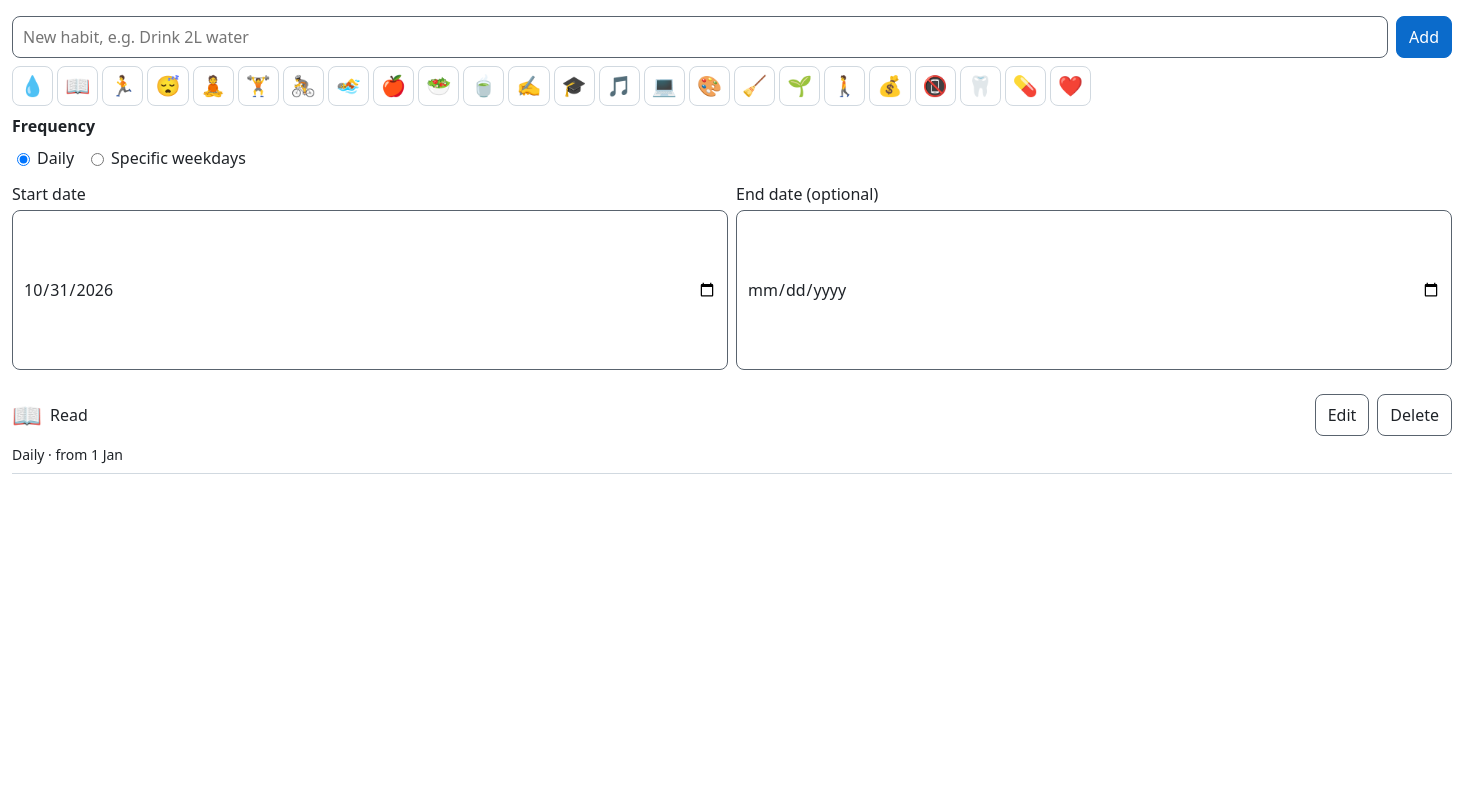
Test: HabitList › AC8 (#1): Escape or clicking away cancels the edit, name and icon restored
Click the button with aria-label "Edit Read" at (1342, 415), box [1315,394,1369,436]
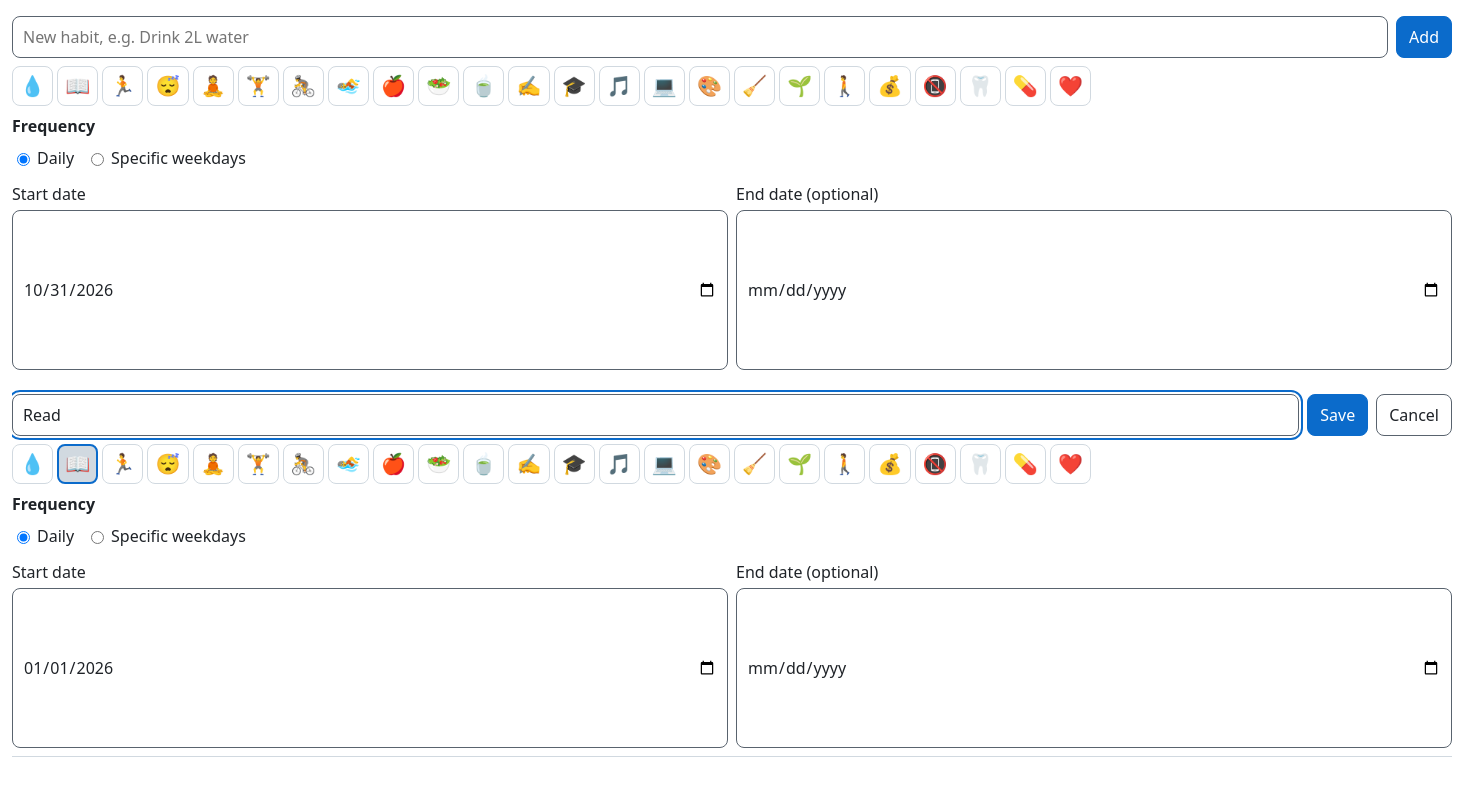
Type "ing" into the field named "Name for Read" at (656, 415), box [12,394,1299,436]
Then press Escape
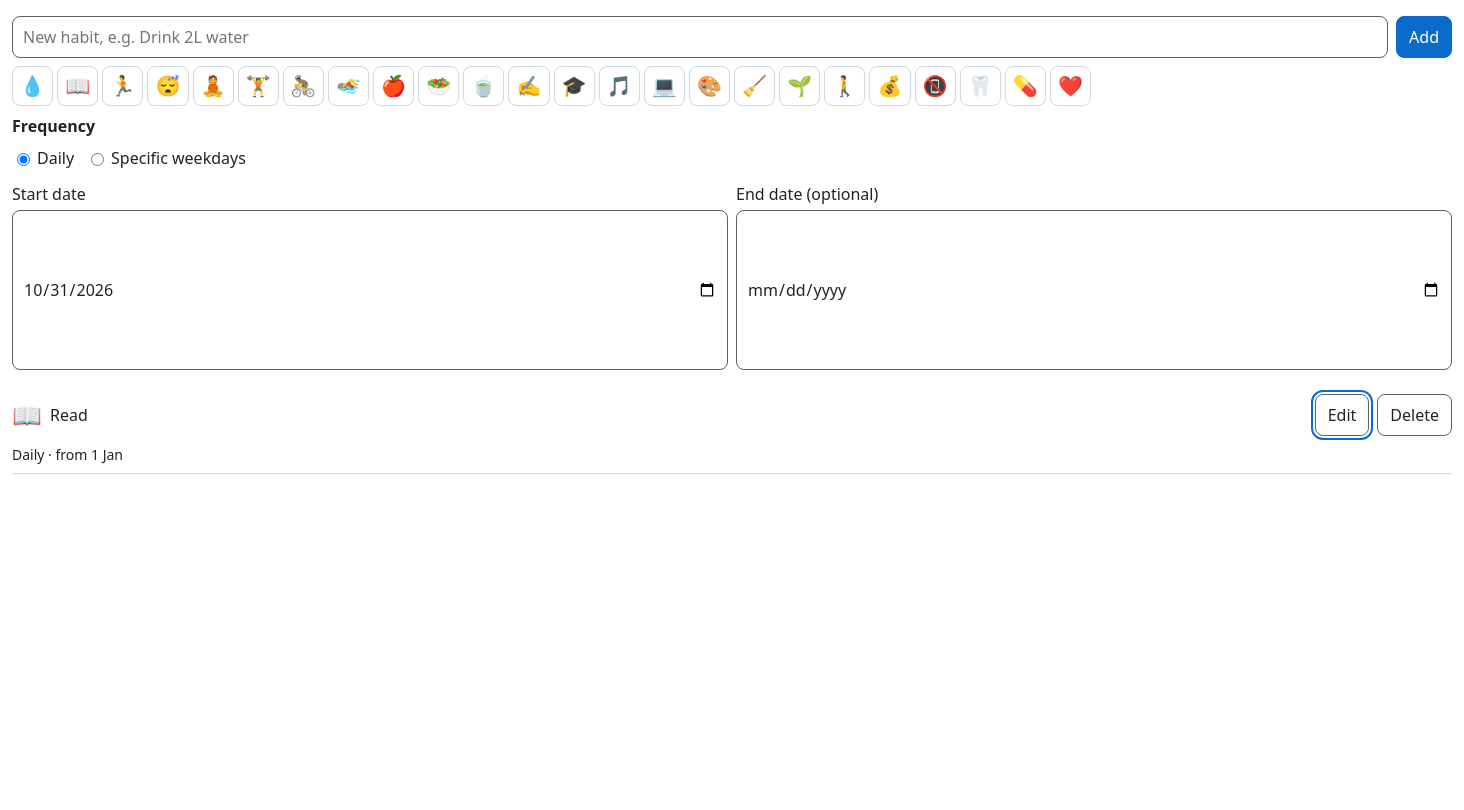
Check: the list item "Read" shows "📖", box [12,398,42,431]
Click the button with aria-label "Edit Read" at (1342, 415), box [1315,394,1369,436]
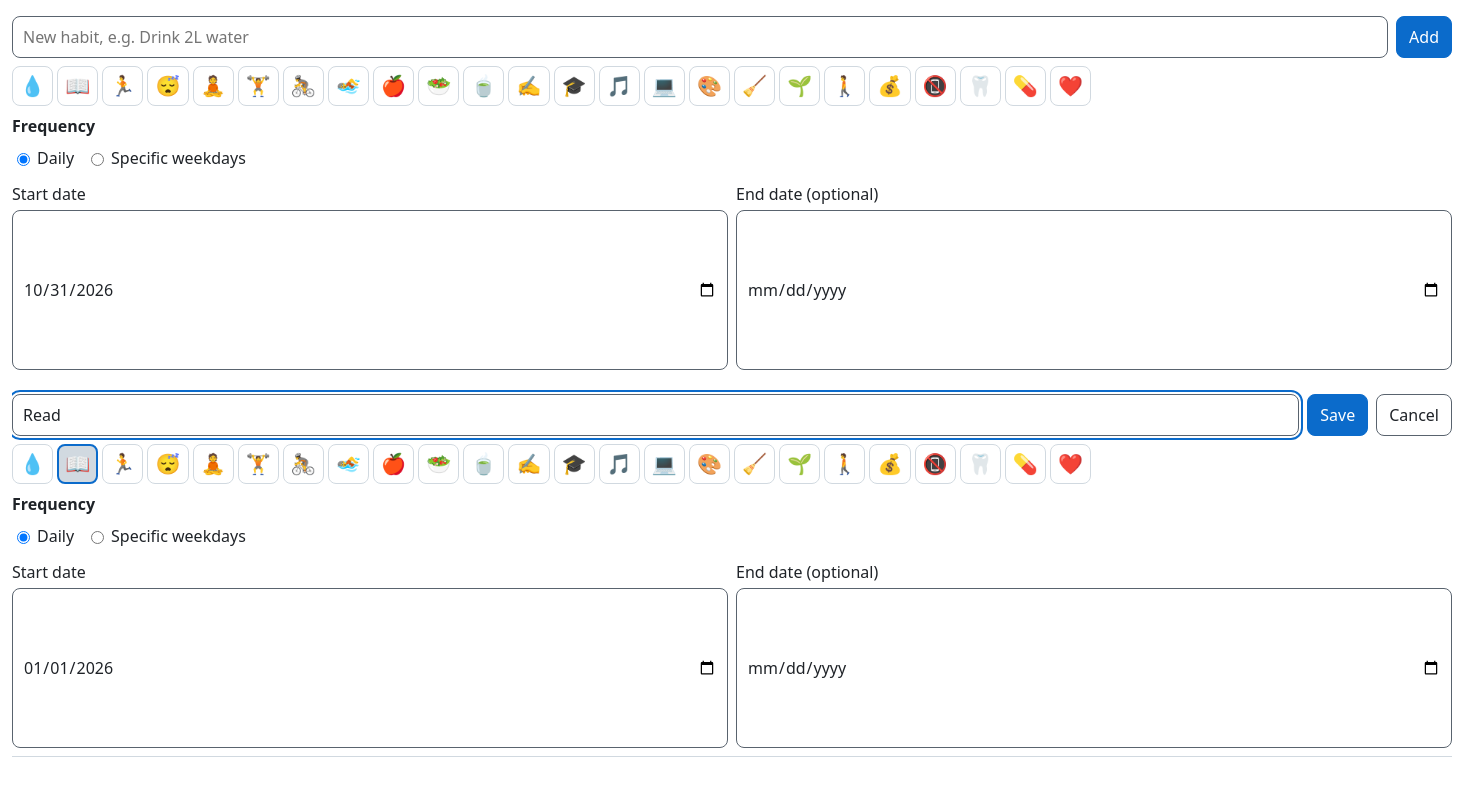
Type "ing" into the field named "Name for Read" at (656, 415), box [12,394,1299,436]
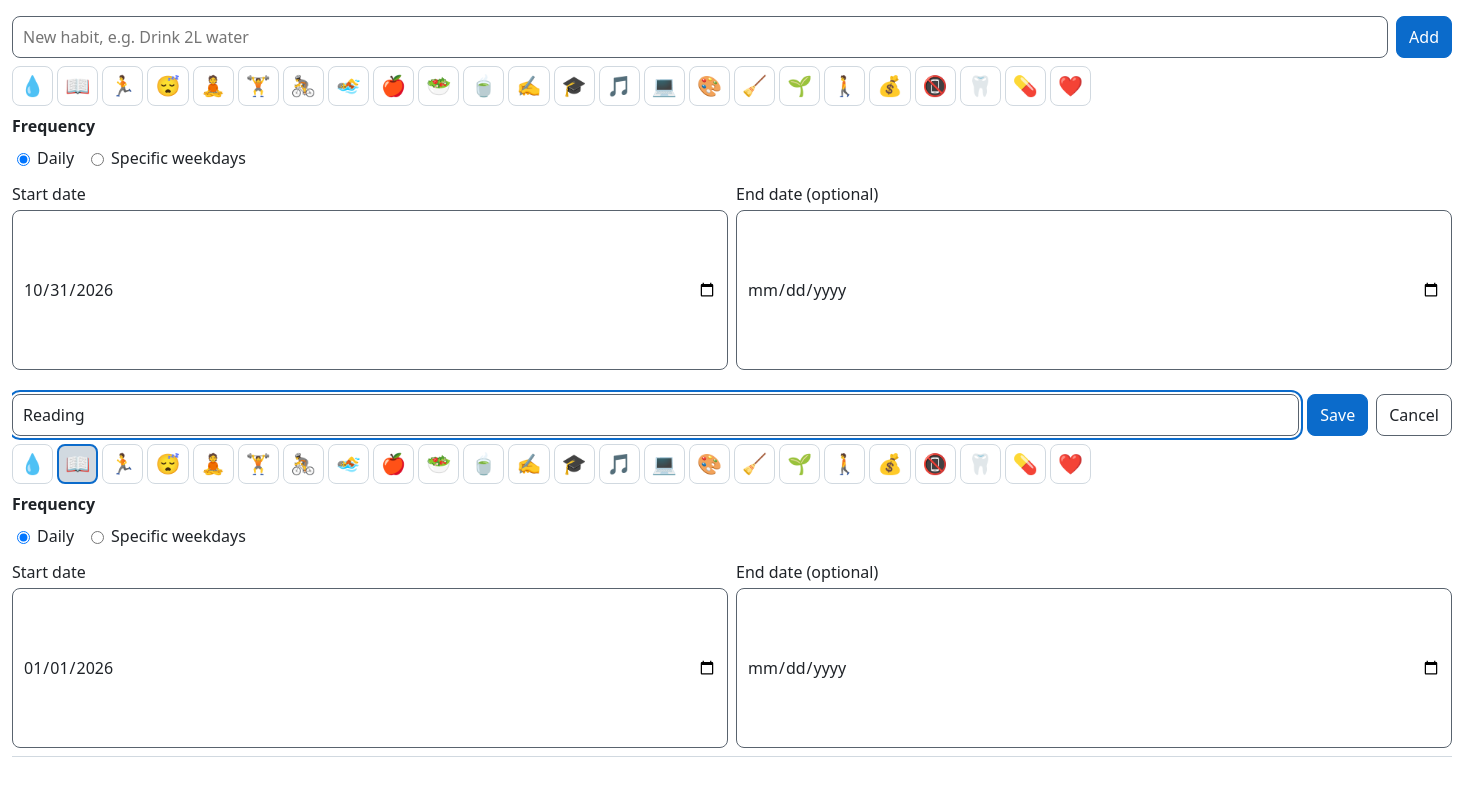
Click the element showing "Add 💧 📖 🏃 😴 🧘 🏋️ 🚴 🏊 🍎 🥗 🍵 ✍️ 🎓 🎵 💻 🎨 🧹 🌱 🚶 💰 📵 🦷 💊 ❤️ Fre" at (732, 386), box [12,16,1452,757]
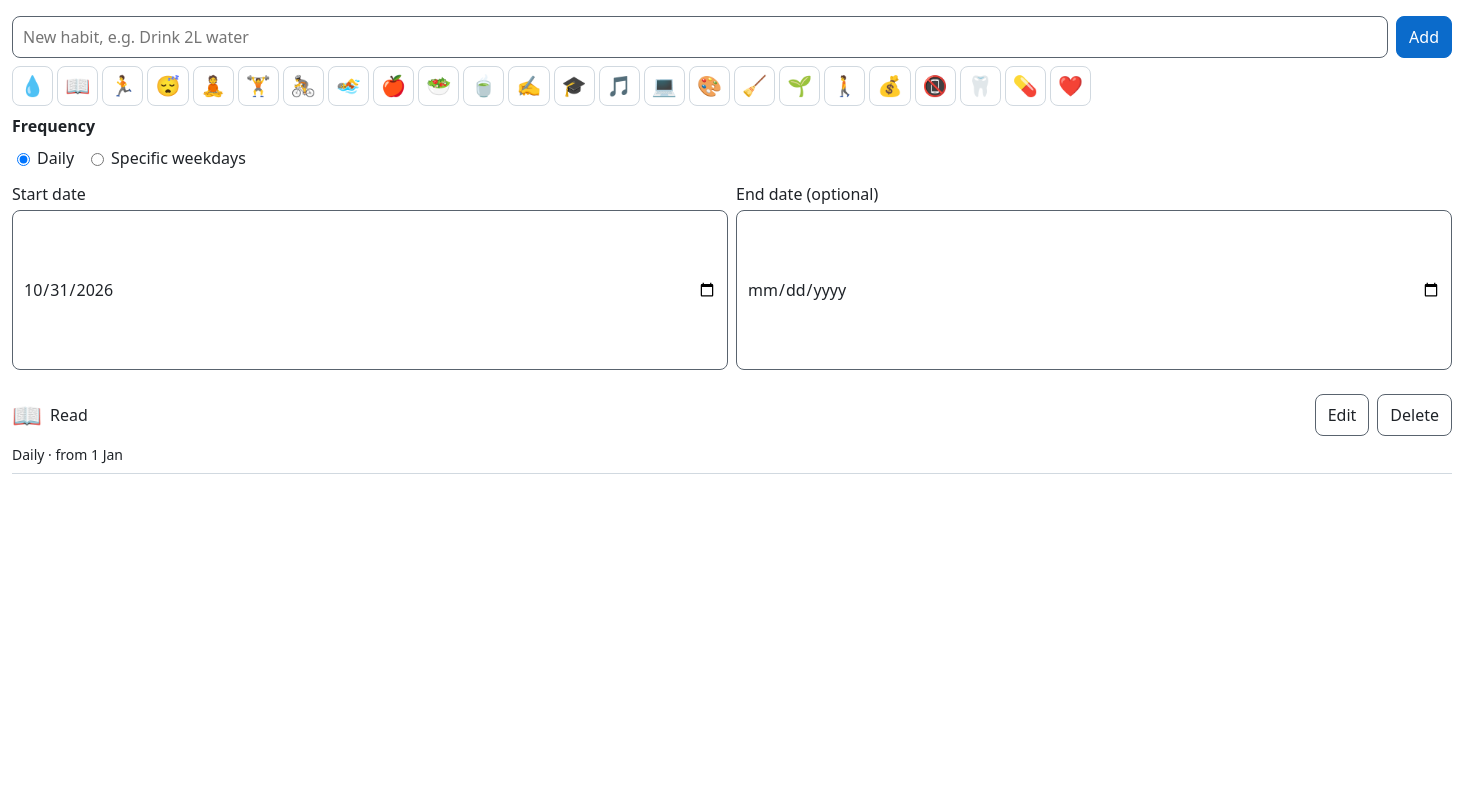
Check: the list item "Read" is shown, box [12,386,1452,474]
Check: the text "Read" is shown, box [50,404,88,426]
